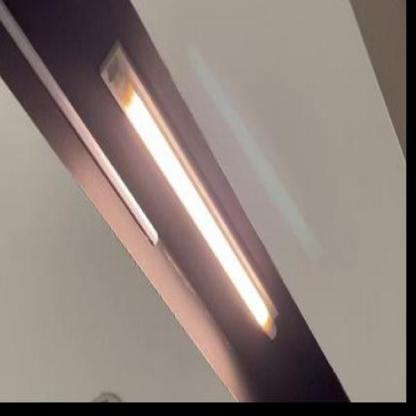light_on: (94, 30, 293, 351)
